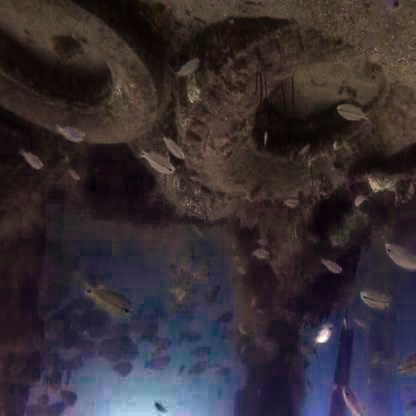tire: (189, 25, 416, 206), (0, 0, 162, 152)
